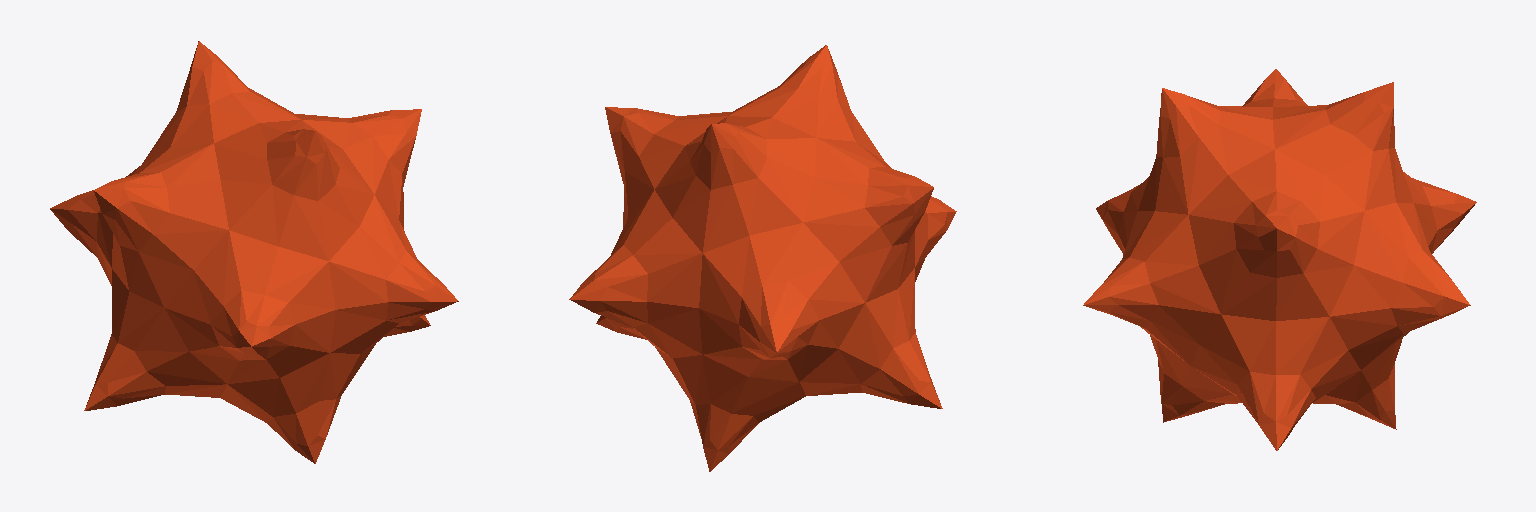
Rendered from brute.obj.
3 renders of one model, left to right at view 1: azimuth 30°, elevation 25°; view 2: azimuth 150°, elevation 25°; view 3: azimuth 270°, elevation 25°, orthographic.
Parts seen in each view (by area): view 1: icosahedron6; view 2: icosahedron6; view 3: icosahedron6.
Boxes of the visible parts, box(x1,y1,x2,y2) form: icosahedron6: box(50, 41, 458, 463); icosahedron6: box(569, 45, 956, 471); icosahedron6: box(1083, 69, 1476, 450).
Size of the model in its own units: 1.1 by 1.05 by 1.08.